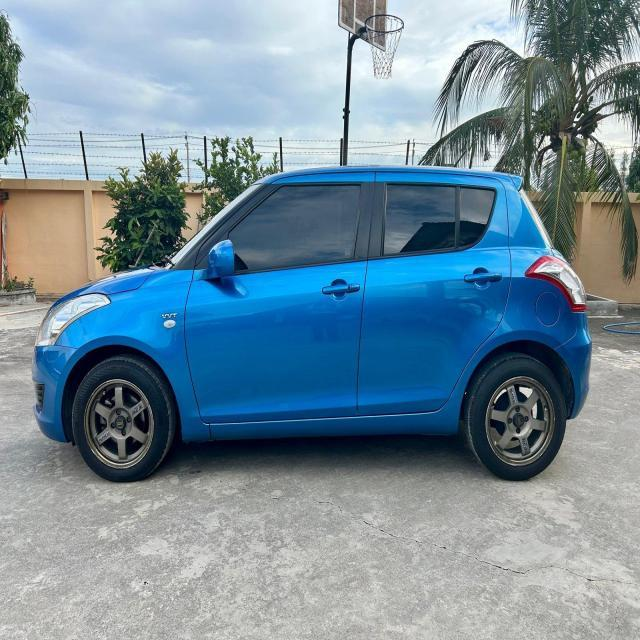Hatchback: (32, 166, 591, 481)
